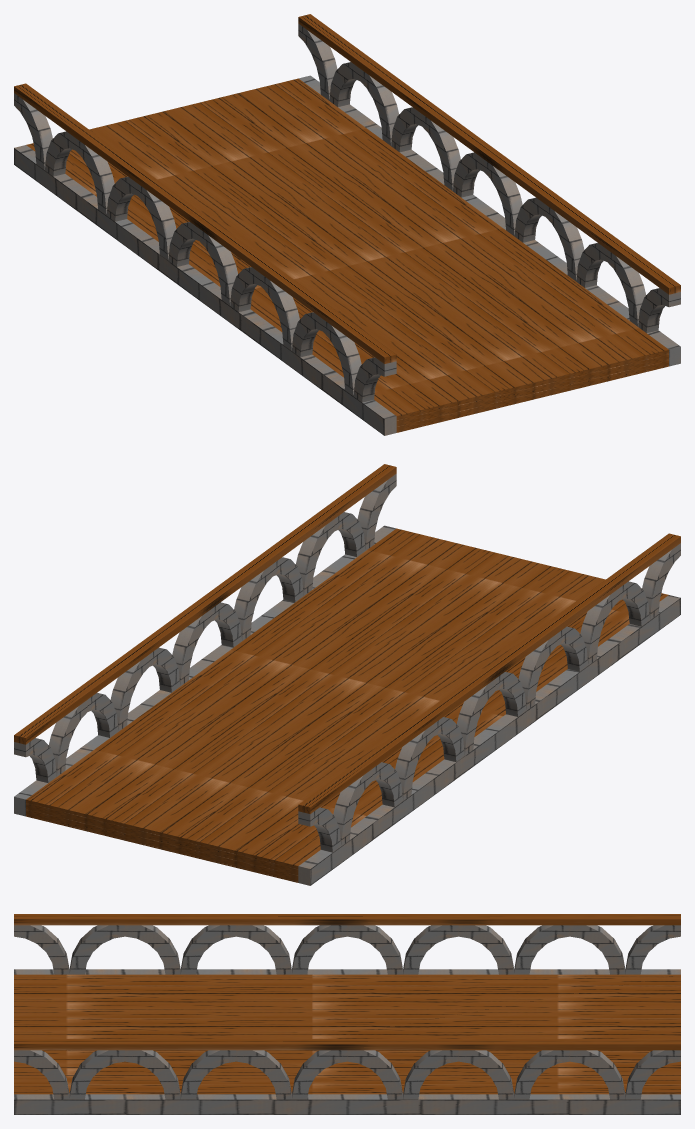
File: Bridge.fbx
3 renders of one model, top to bottom at view 1: azimuth 30°, elevation 25°; view 2: azimuth 150°, elevation 25°; view 3: azimuth 270°, elevation 25°, orthographic. The views are drawn at different scales.
Parts seen in each view (by area): view 1: pCube5, polySurface16, polySurface3, polySurface27, polySurface13, polySurface23, polySurface18, polySurface21, polySurface17, polySurface24, polySurface19, polySurface22 (+3 smaller); view 2: pCube5, polySurface16, polySurface3, polySurface22, polySurface21, polySurface26, polySurface13, polySurface19, polySurface20, polySurface25, polySurface18, polySurface27 (+3 smaller); view 3: pCube5, polySurface16, polySurface3, polySurface24, polySurface25, polySurface17, polySurface20, polySurface18, polySurface19, polySurface23, polySurface26, polySurface21 (+3 smaller).
Part boxes in pixels (<box>): pCube5: <box>14,75,680,435</box>; polySurface16: <box>14,83,396,363</box>; polySurface3: <box>298,14,680,294</box>; polySurface27: <box>322,319,396,402</box>; polySurface13: <box>607,250,680,333</box>; polySurface23: <box>75,138,137,221</box>; polySurface18: <box>483,159,545,242</box>; polySurface21: <box>298,24,360,106</box>; polySurface17: <box>545,204,607,287</box>; polySurface24: <box>137,184,199,266</box>; polySurface19: <box>422,114,483,197</box>; polySurface22: <box>14,93,75,176</box>; pCube5: <box>14,525,680,885</box>; polySurface16: <box>298,533,680,813</box>; polySurface3: <box>14,464,396,744</box>; polySurface22: <box>298,769,372,852</box>; polySurface21: <box>14,700,87,783</box>; polySurface26: <box>557,588,619,671</box>; polySurface13: <box>334,474,396,556</box>; polySurface19: <box>149,609,211,692</box>; polySurface20: <box>87,654,149,737</box>; polySurface25: <box>495,634,557,716</box>; polySurface18: <box>211,564,272,647</box>; polySurface27: <box>619,543,680,626</box>; pCube5: <box>14,969,680,1114</box>; polySurface16: <box>14,914,680,925</box>; polySurface3: <box>14,1039,680,1050</box>; polySurface24: <box>347,925,458,974</box>; polySurface25: <box>236,925,347,974</box>; polySurface17: <box>125,1050,236,1099</box>; polySurface20: <box>458,1050,569,1099</box>; polySurface18: <box>236,1050,347,1099</box>; polySurface19: <box>347,1050,458,1099</box>; polySurface23: <box>458,925,569,974</box>; polySurface26: <box>125,925,236,974</box>; polySurface21: <box>569,1050,680,1099</box>.
Bounding box in the file's own units: 5.5 × 1.39 × 11.9.
